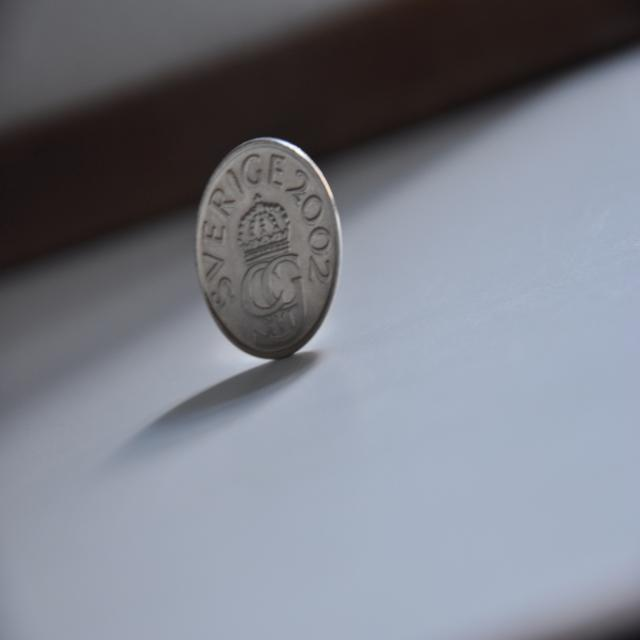Coin: (195, 136, 342, 356)
